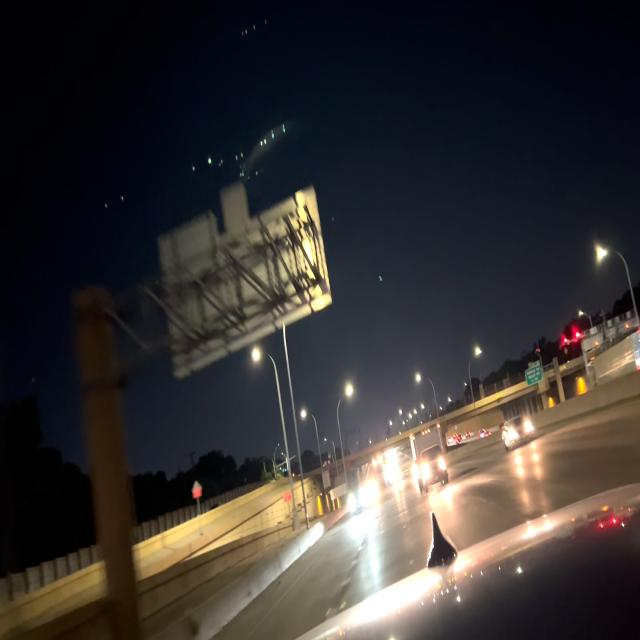back-of-sign: (156, 181, 333, 381)
